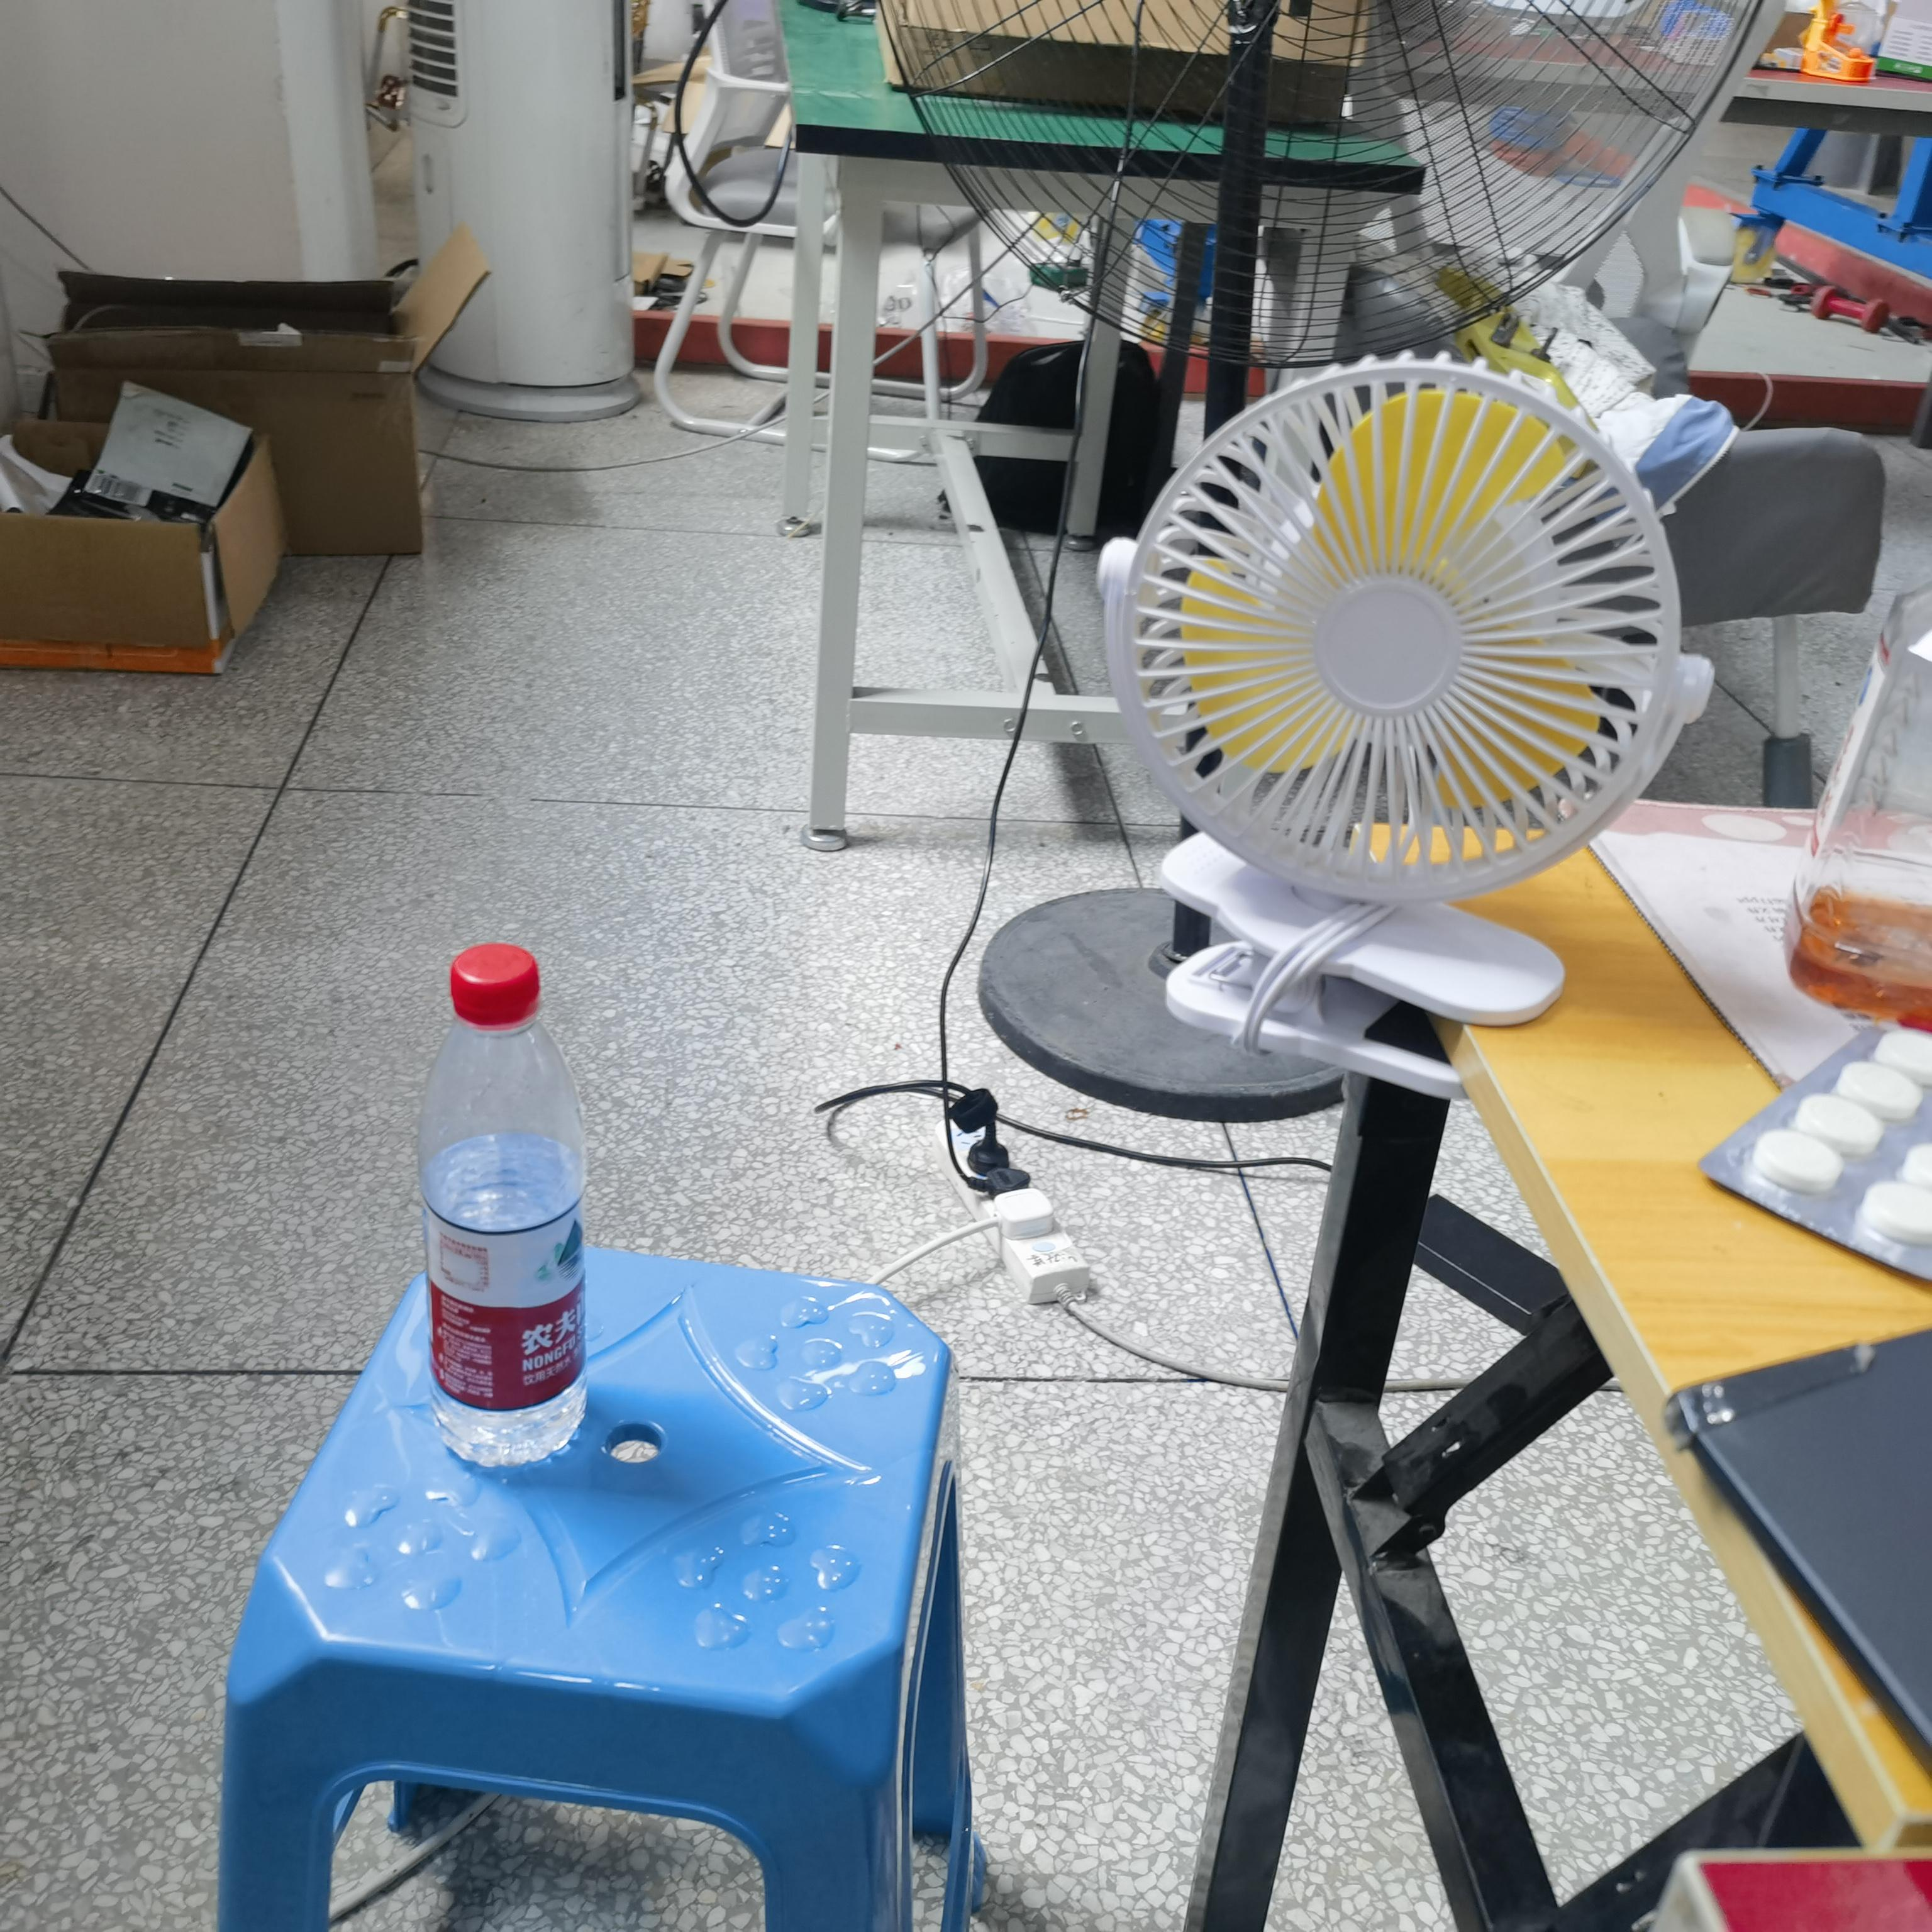bottle: (423, 945, 586, 1467)
fan: (1106, 354, 1698, 1099), (502, 1447, 520, 1467)
